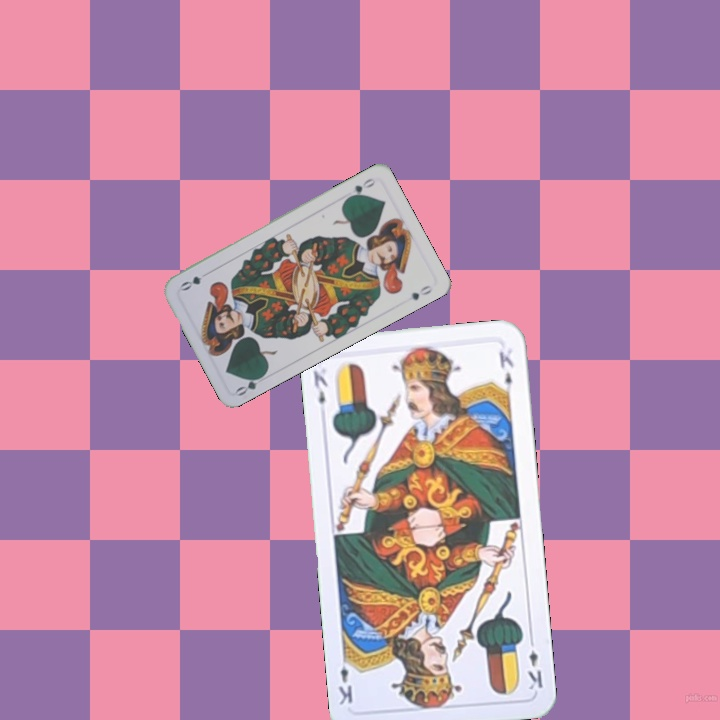EK: (524, 633, 545, 693), (309, 366, 330, 407)
GO: (232, 369, 268, 399), (342, 174, 378, 202)
